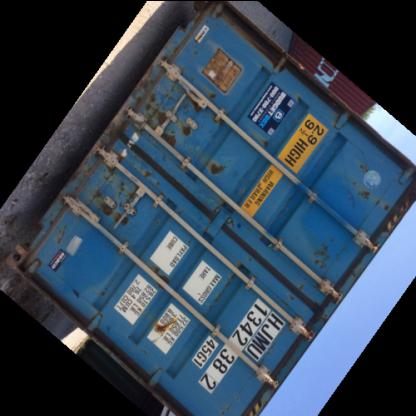Damage: (129, 92, 209, 154), (352, 158, 394, 223), (93, 168, 134, 228), (305, 229, 341, 281), (148, 314, 185, 342), (202, 155, 233, 181)
